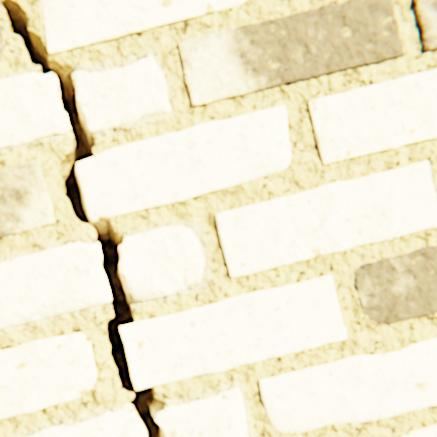brick: (119, 276, 345, 389), (214, 162, 436, 277), (76, 106, 289, 220), (177, 0, 402, 107), (258, 338, 436, 431), (306, 70, 436, 165), (41, 0, 246, 56), (0, 333, 96, 418), (352, 246, 436, 324), (0, 160, 54, 238), (411, 0, 436, 53), (401, 423, 436, 436), (0, 25, 5, 56)
broken_brick: (0, 242, 110, 328), (73, 57, 170, 134), (119, 226, 204, 303), (0, 74, 70, 149), (154, 388, 247, 436), (29, 409, 146, 436)
crack: (0, 0, 166, 436)
